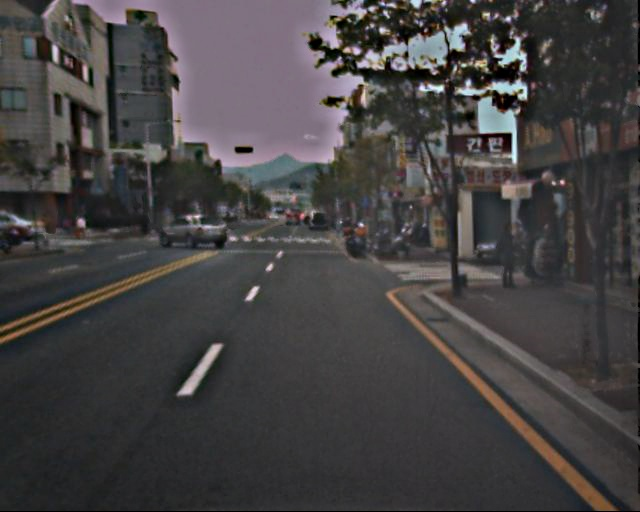person: (494, 224, 522, 292)
